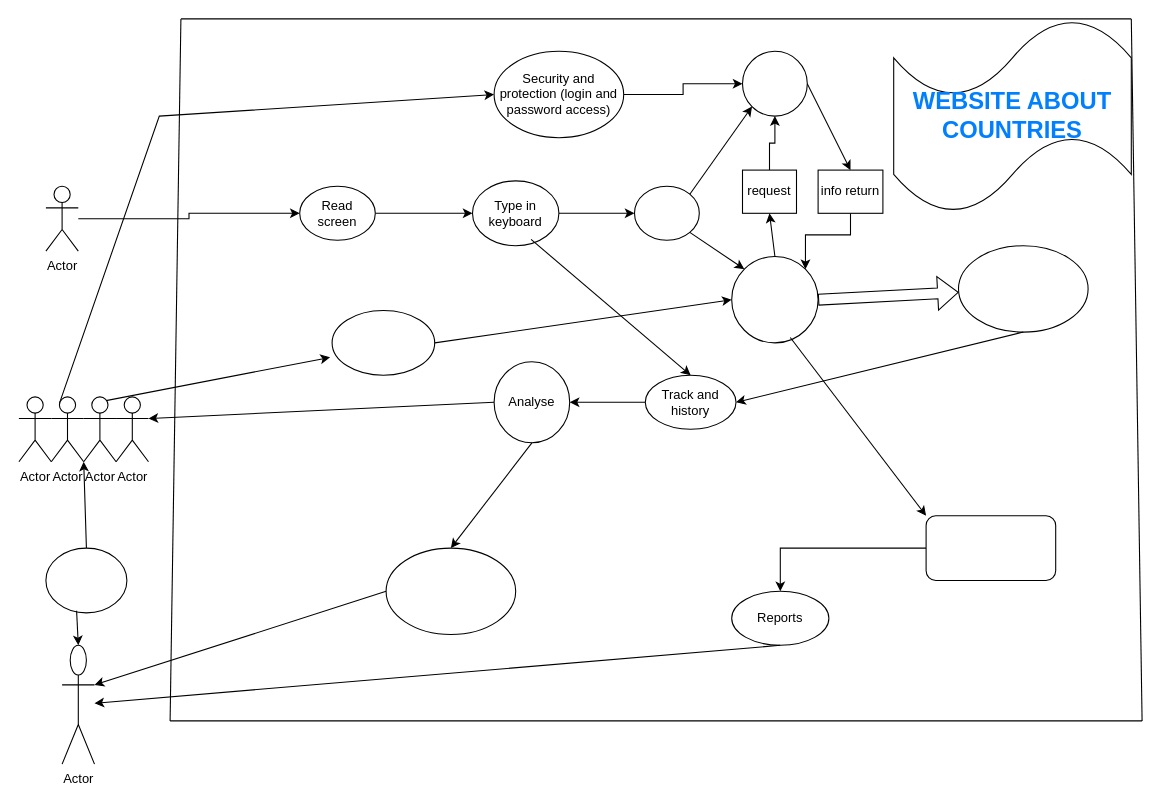
Some shapes in this 1162 by 806 pixel diagram are drawn without their labels. The centre of each missing label's shape, as x and y in pixels:
"Click + Enter" goes at (x=666, y=212).
"DB" goes at (x=774, y=83).
"HTML, JS, CSS" goes at (x=774, y=299).
"Manage, deploy and update" goes at (x=383, y=342).
"Search engines (Google)" goes at (x=990, y=547).
"Show requested information on screen" goes at (x=1022, y=288).
"Technical support" goes at (x=86, y=580).
"Use for sell holidays" goes at (x=450, y=590).
